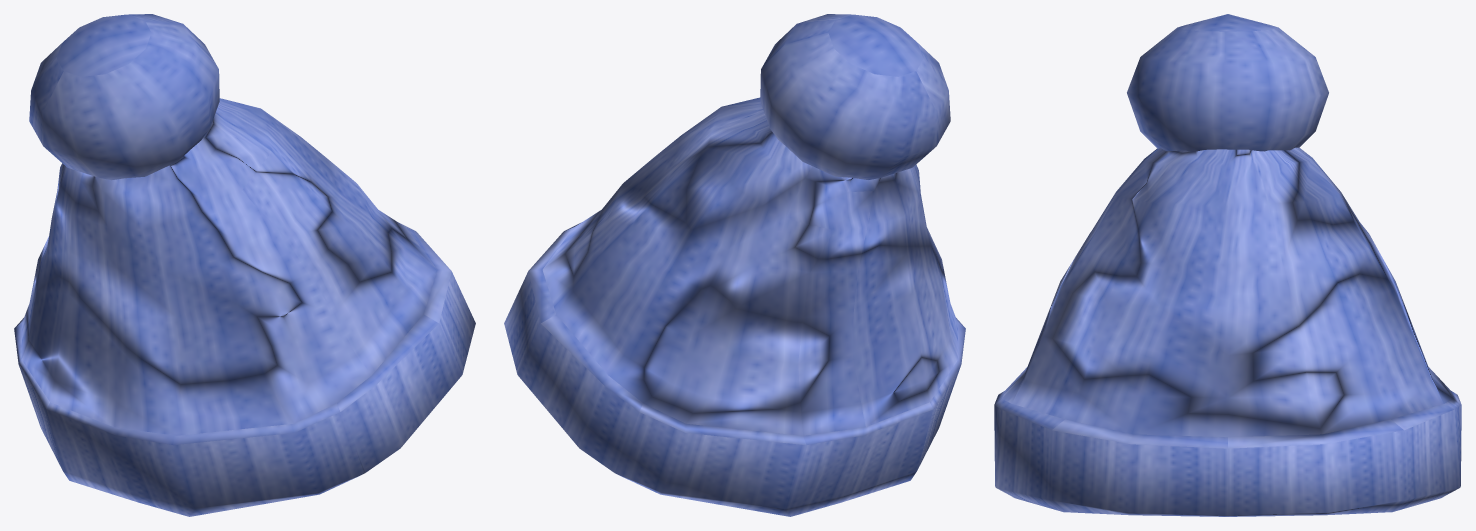
The model's file is topi.fbx.
3 renders of one model, left to right at view 1: azimuth 30°, elevation 25°; view 2: azimuth 150°, elevation 25°; view 3: azimuth 270°, elevation 25°, orthographic.
Visible parts, largest first — view 1: BLUE_POMPOM_HAT; view 2: BLUE_POMPOM_HAT; view 3: BLUE_POMPOM_HAT.
Part boxes in pixels (x1,y1,x2,y2): BLUE_POMPOM_HAT: (14,14,475,516); BLUE_POMPOM_HAT: (504,14,965,516); BLUE_POMPOM_HAT: (994,14,1461,516).
Size of the model in its own units: 30.52 by 33.2 by 31.29.
